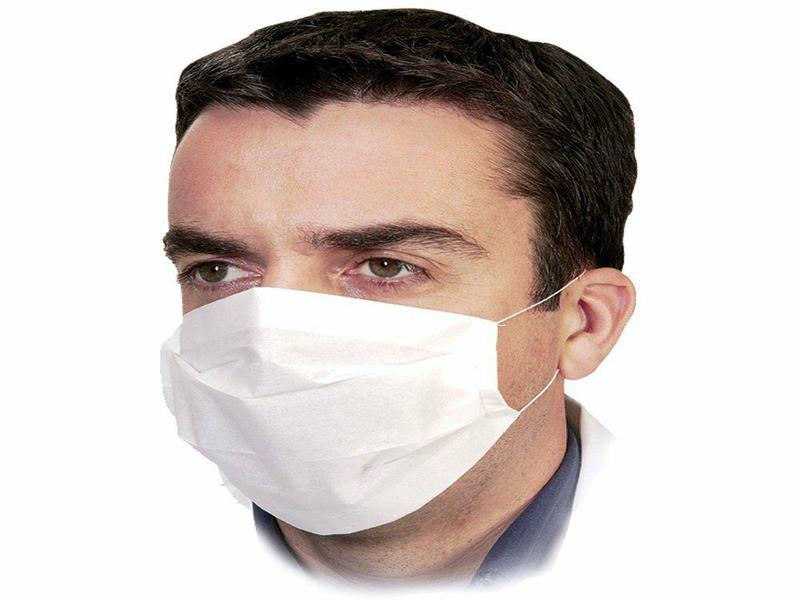with_mask: (159, 15, 635, 539)
